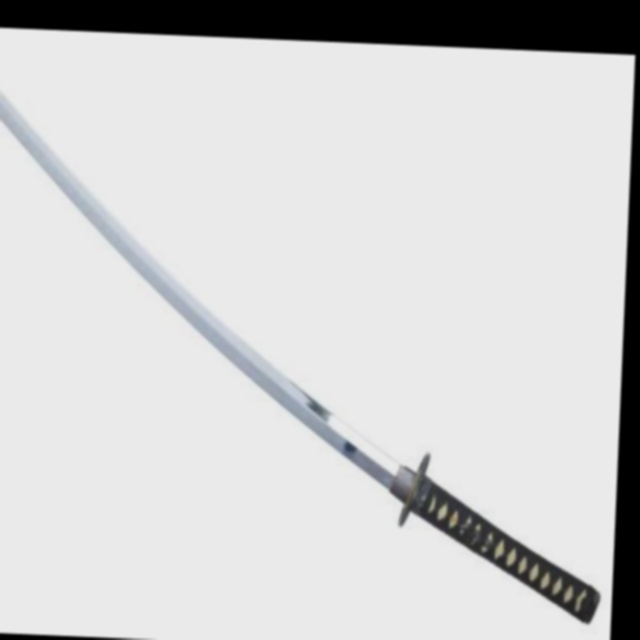Sharp-Object: (0, 52, 625, 638)
